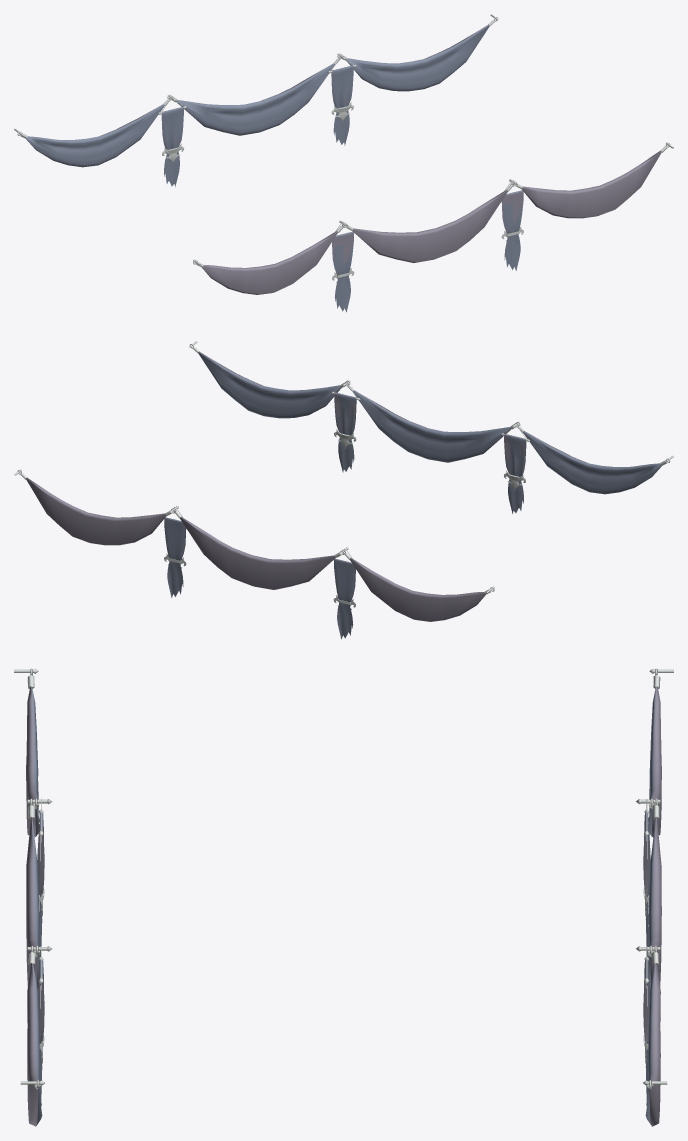
3 views of the same model, one above another, from view 1: azimuth 30°, elevation 25°; view 2: azimuth 150°, elevation 25°; view 3: azimuth 270°, elevation 25° (orthographic). The views are drawn at different scales.
Parts seen in each view (by area): view 1: G:\FFXIV-MapTools\exports\r2f1\bg\ex1\01_roc_r2\fld\r2f1\bgp (×2); view 2: G:\FFXIV-MapTools\exports\r2f1\bg\ex1\01_roc_r2\fld\r2f1\bgp (×2); view 3: G:\FFXIV-MapTools\exports\r2f1\bg\ex1\01_roc_r2\fld\r2f1\bgp (×2).
Part boxes in pixels (left/top/right/bottom): G:\FFXIV-MapTools\exports\r2f1\bg\ex1\01_roc_r2\fld\r2f1\bgp (×2): left=14, top=14, right=673, bottom=312; G:\FFXIV-MapTools\exports\r2f1\bg\ex1\01_roc_r2\fld\r2f1\bgp (×2): left=14, top=341, right=673, bottom=639; G:\FFXIV-MapTools\exports\r2f1\bg\ex1\01_roc_r2\fld\r2f1\bgp (×2): left=14, top=668, right=673, bottom=1126.
Size of the model in its own units: 23.11 by 4.23 by 15.5.
